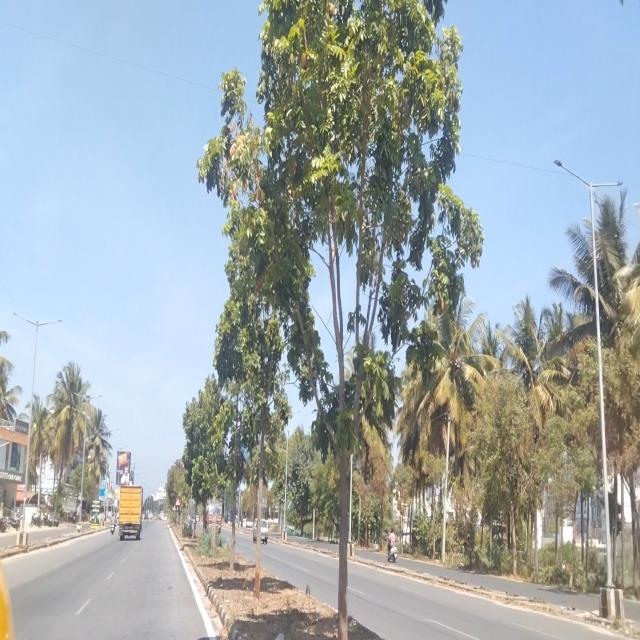bien_cam: (175, 496, 181, 508), (172, 503, 176, 512)
